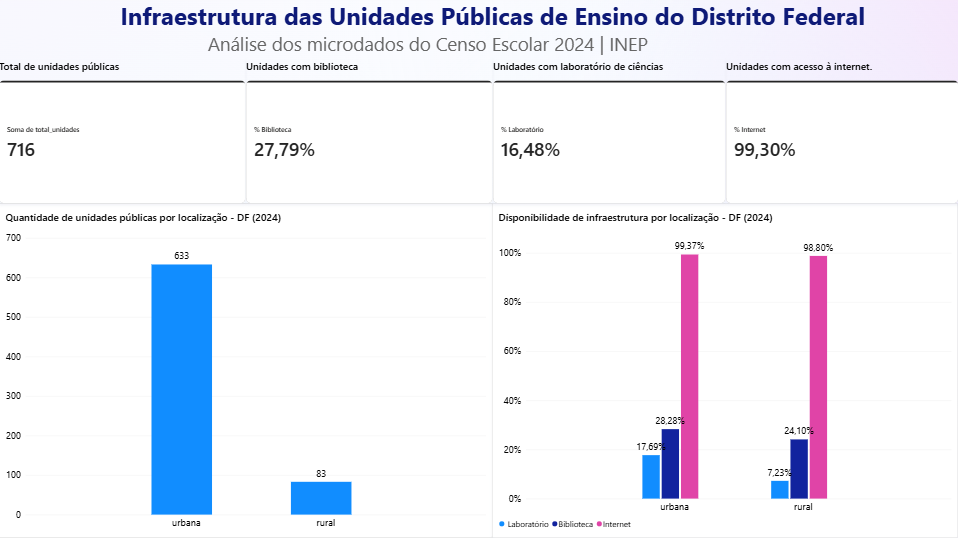

This screenshot's page, from the dashboard's own definition file:
{"tool":"powerbi","page":{"name":"Página 1","canvas":[1920,1080],"ordinal":0},"visuals":[{"type":"clusteredColumnChart","title":"Quantidade de unidades públicas por localização - DF (2024)","fields":{"Category":["indicadores_localizacao.localizacao"],"Y":["Sum(indicadores_localizacao.total_unidades)"]},"box":[0,408.5,987.2,670.2],"z":0},{"type":"clusteredColumnChart","title":"Disponibilidade de infraestrutura por localização - DF (2024)","fields":{"Category":["indicadores_localizacao.localizacao"],"Y":["indicadores_localizacao.% Laboratório","indicadores_localizacao.% Biblioteca","indicadores_localizacao.% Internet"]},"box":[986.5,408.1,931.9,670.2],"z":1000},{"type":"cardVisual","title":"Total de unidades públicas","fields":{"Data":["Sum(indicadores_localizacao.total_unidades)"]},"box":[0,119.1,493.6,289.4],"z":2000},{"type":"cardVisual","title":"Unidades com biblioteca","fields":{"Data":["indicadores_localizacao.% Biblioteca"]},"box":[493.6,119.1,493.6,289.4],"z":3000},{"type":"cardVisual","title":"Unidades com laboratório de ciências","fields":{"Data":["indicadores_localizacao.% Laboratório"]},"box":[987.2,119.1,466,289.4],"z":4000},{"type":"cardVisual","title":"Unidades com acesso à internet.","fields":{"Data":["indicadores_localizacao.% Internet"]},"box":[1453.2,119.1,466,289.4],"z":5000},{"type":"textbox","box":[234,0,1506.4,119.1],"z":6000}]}

Visuals, with their boxes in screenshot pixels (x1, y1, x2, y2), scaled from the page's 1920x1080 canvas onto the 958x538 screenshot:
"Quantidade de unidades públicas por localização - DF (2024)" clusteredColumnChart: left=0, top=203, right=493, bottom=537
"Disponibilidade de infraestrutura por localização - DF (2024)" clusteredColumnChart: left=492, top=203, right=957, bottom=537
"Total de unidades públicas" cardVisual: left=0, top=59, right=246, bottom=203
"Unidades com biblioteca" cardVisual: left=246, top=59, right=493, bottom=203
"Unidades com laboratório de ciências" cardVisual: left=493, top=59, right=725, bottom=203
"Unidades com acesso à internet." cardVisual: left=725, top=59, right=957, bottom=203
textbox: left=117, top=0, right=868, bottom=59
